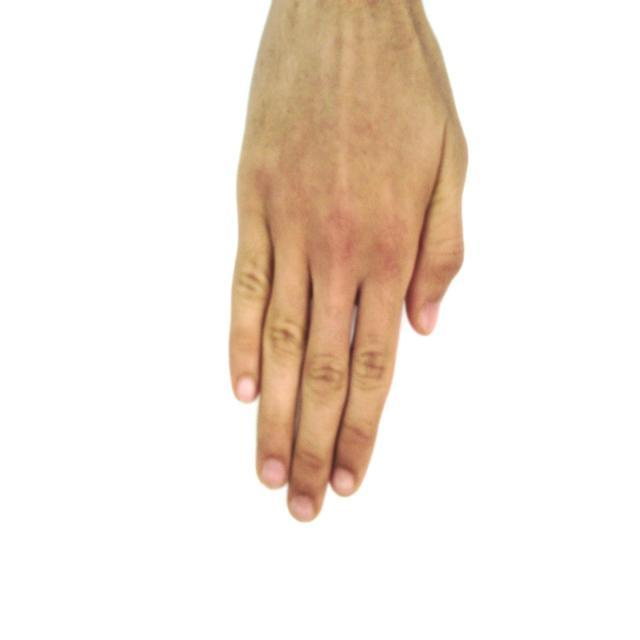Fingernail: (263, 460, 286, 487), (332, 470, 355, 495), (419, 304, 438, 333), (292, 497, 314, 521), (238, 377, 255, 402)
